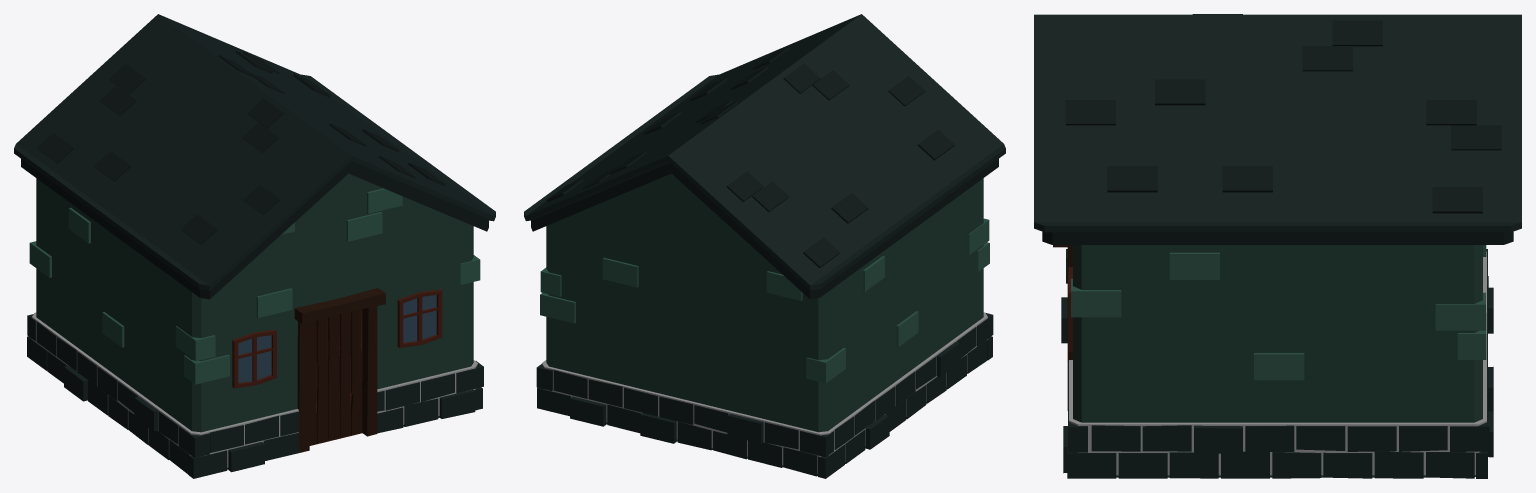
The model's file is bld_1Story_GableRoof_Mat.glb.
3 renders of one model, left to right at view 1: azimuth 30°, elevation 25°; view 2: azimuth 150°, elevation 25°; view 3: azimuth 270°, elevation 25°, orthographic. The views are drawn at different scales.
Visible parts, largest first — view 1: 1Story_GableRoof_Mat; view 2: 1Story_GableRoof_Mat; view 3: 1Story_GableRoof_Mat.
Part boxes in pixels (box(x1,y1,x2,y2)): 1Story_GableRoof_Mat: box(14, 14, 495, 478); 1Story_GableRoof_Mat: box(524, 14, 1005, 478); 1Story_GableRoof_Mat: box(1034, 14, 1521, 478).
Size of the model in its own units: 211 by 202 by 238.
